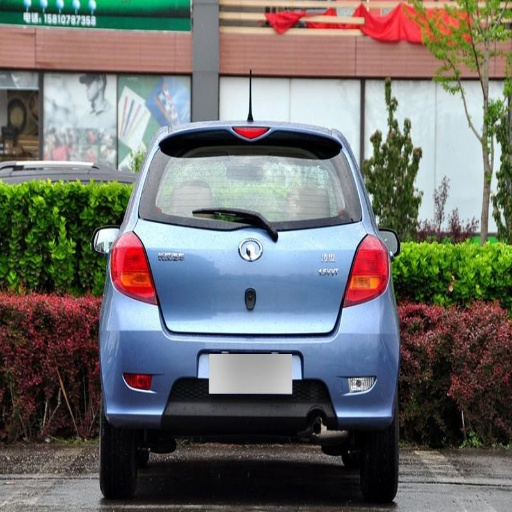back_bumper: (102, 286, 400, 443)
trunk: (131, 221, 368, 337)
